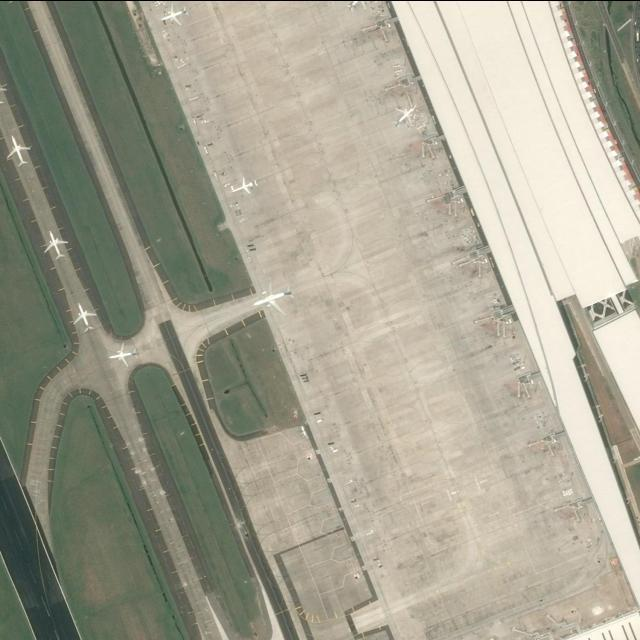Aircraft: (252, 280, 293, 316), (250, 289, 288, 320), (46, 225, 71, 270), (5, 131, 30, 167), (5, 134, 30, 168), (42, 229, 68, 261), (71, 298, 95, 332), (107, 342, 137, 368), (72, 302, 96, 332), (107, 344, 134, 369), (160, 3, 188, 27), (160, 0, 184, 26), (392, 103, 420, 125), (393, 104, 417, 128), (231, 176, 259, 196), (233, 175, 255, 196), (346, 0, 370, 12), (349, 0, 371, 13)
